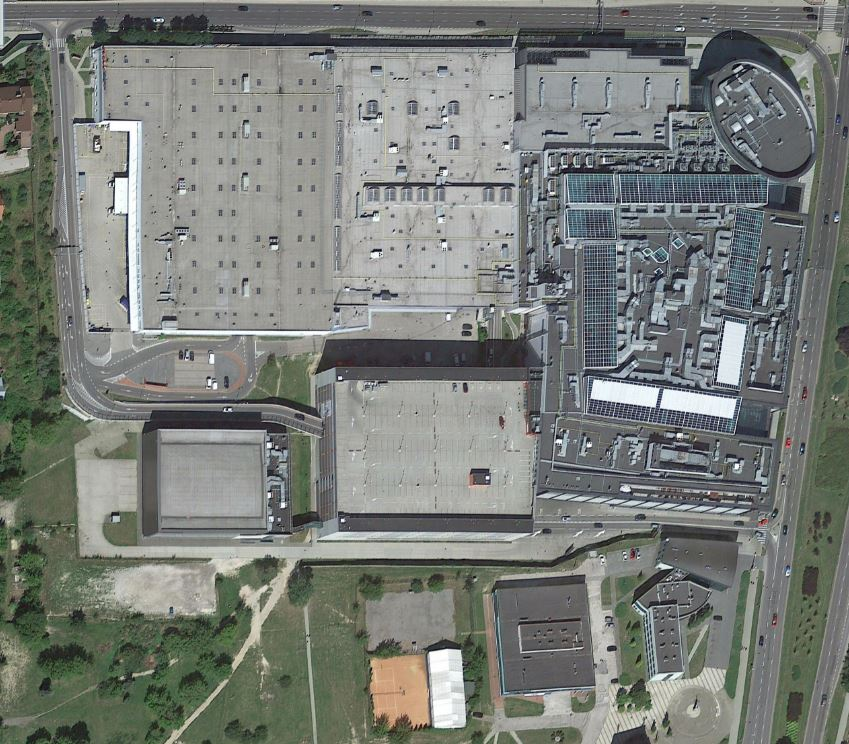block of flats: (490, 580, 601, 697), (632, 560, 715, 692)
shopping_center: (65, 29, 822, 565)
